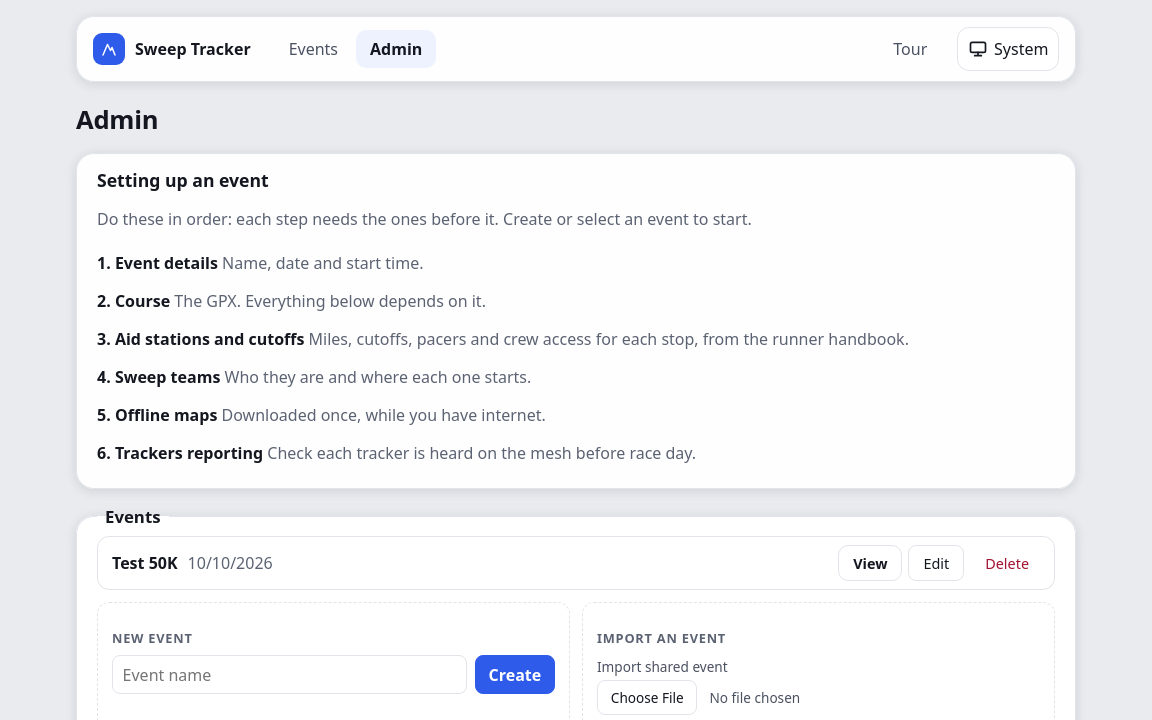
AdminPage › aid stations › has no aid station table or CSV for an event without a course
What coordinates should you click on to do the following:
click the button with aria-label "Edit Test 50K"
I would click on:
 (936, 563)
Its box is [908, 545, 964, 581].
(page scrolled)
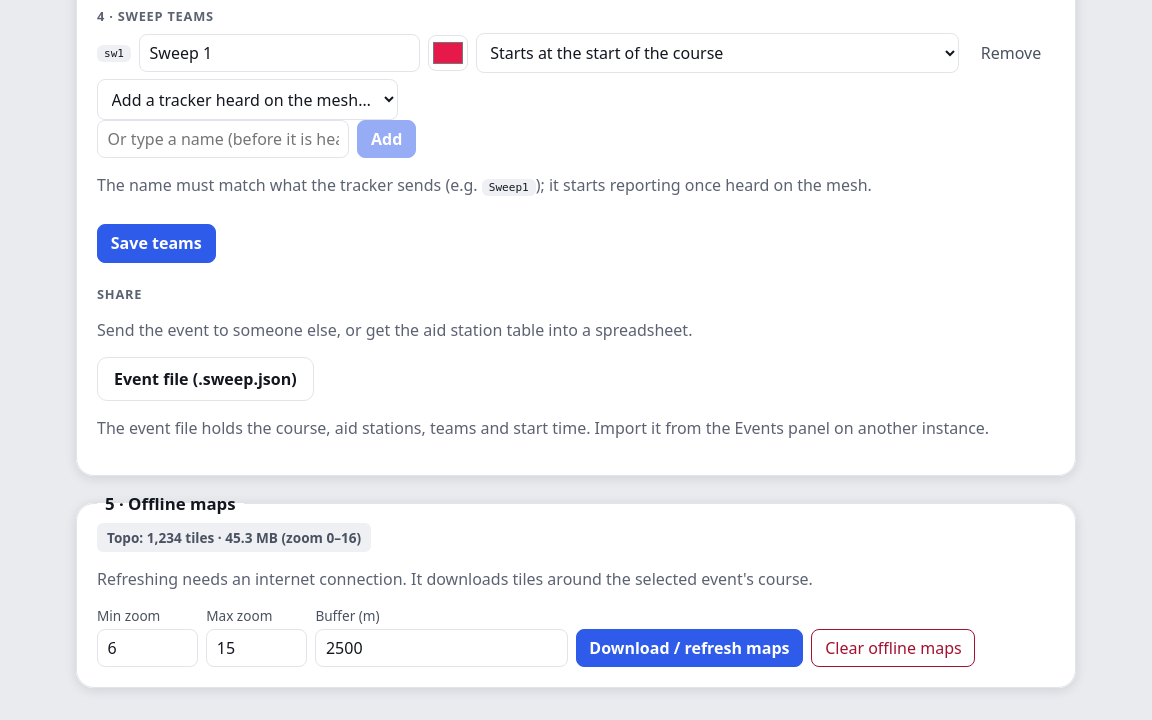
Expected: the link "Event file (.sweep.json)" is shown, [97, 357, 314, 401]
